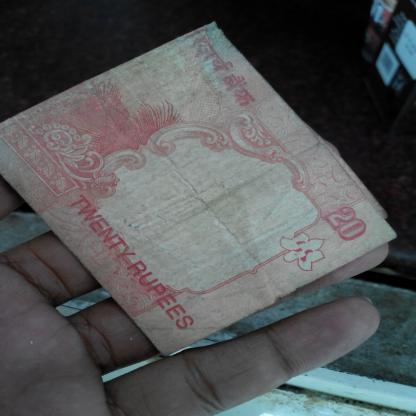Old20Back: (4, 28, 374, 338)
